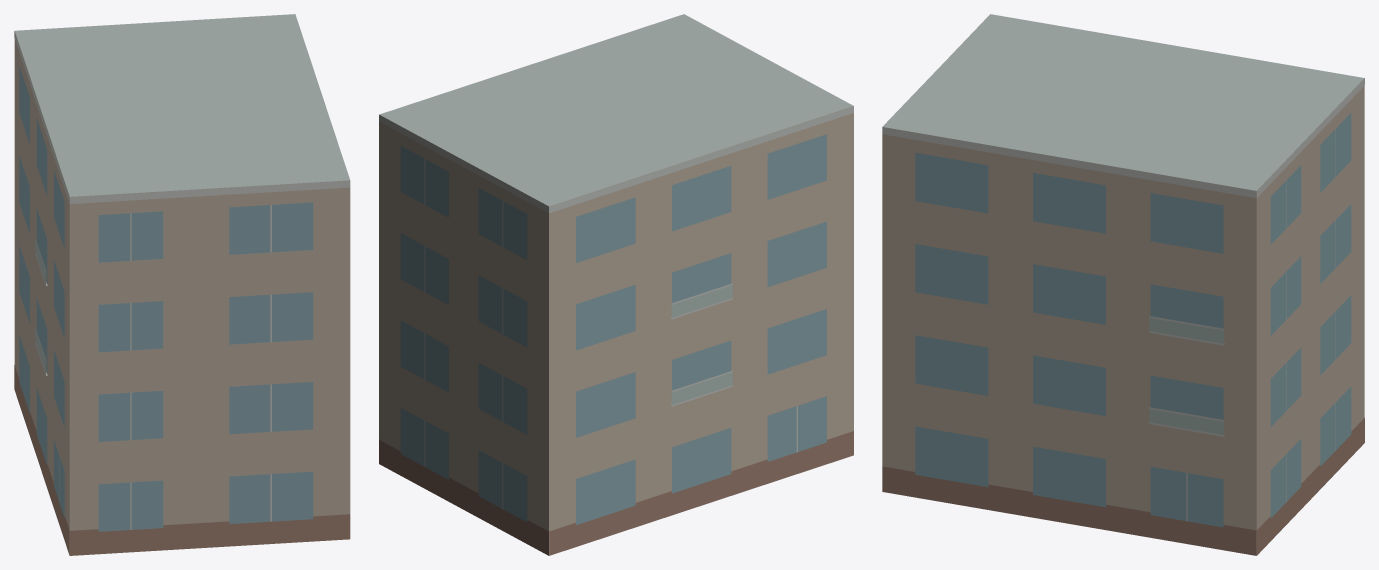
File: residential-e048fa39-50a6-4b07-9241-15b5ad6e594f.glb
The picture shows the model from 3 angles, left to right: view 1: azimuth 30°, elevation 25°; view 2: azimuth 150°, elevation 25°; view 3: azimuth 270°, elevation 25°; orthographic projection. The views are drawn at different scales.
Visible parts, largest first — view 1: residential-e048fa39-50a6-4b07-9241-15b5ad6e594f.tmp; view 2: residential-e048fa39-50a6-4b07-9241-15b5ad6e594f.tmp; view 3: residential-e048fa39-50a6-4b07-9241-15b5ad6e594f.tmp.
Part boxes in pixels (x1,y1,x2,y2): residential-e048fa39-50a6-4b07-9241-15b5ad6e594f.tmp: (14, 14, 350, 555); residential-e048fa39-50a6-4b07-9241-15b5ad6e594f.tmp: (379, 14, 853, 555); residential-e048fa39-50a6-4b07-9241-15b5ad6e594f.tmp: (882, 14, 1364, 555).
Bounding box in the file's own units: 12.7 × 12.2 × 14.63.
